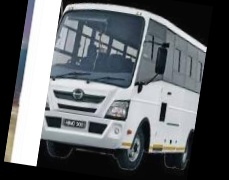bus: (38, 0, 210, 180)
